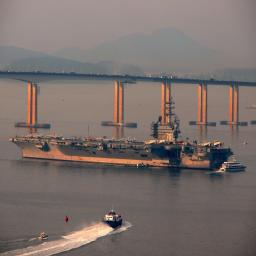Portanaves: (11, 118, 234, 173)
